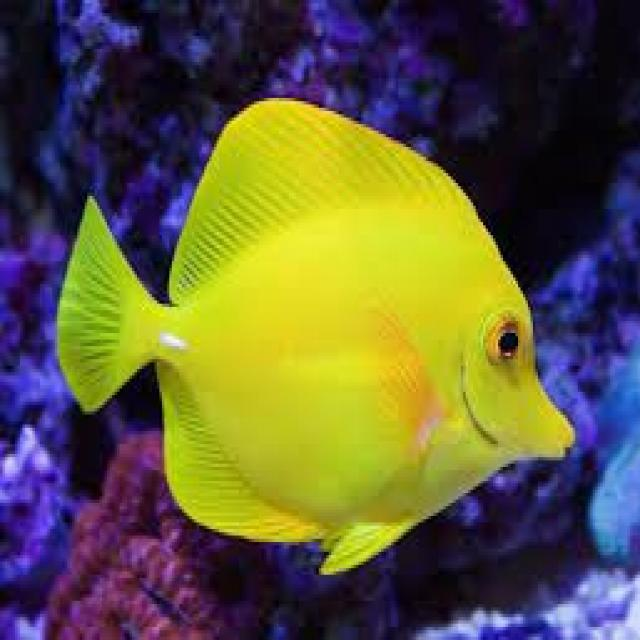YellowTang: (48, 76, 583, 578)
